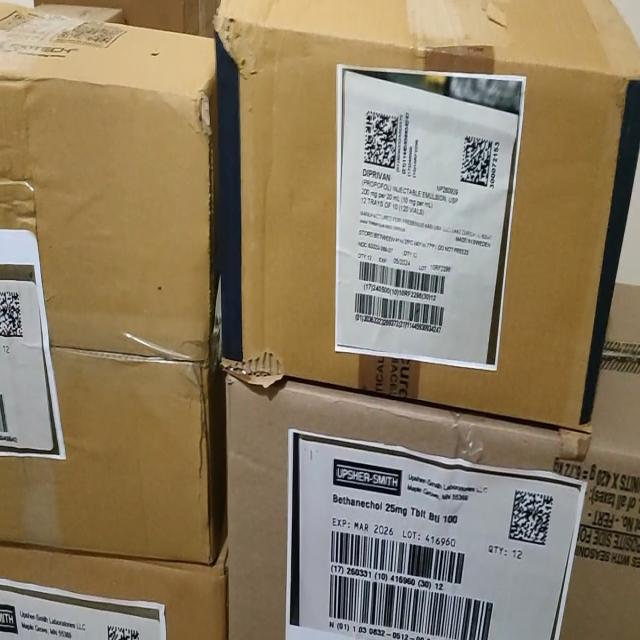BoxFace: (217, 1, 638, 436), (0, 3, 224, 570), (224, 367, 638, 636)
